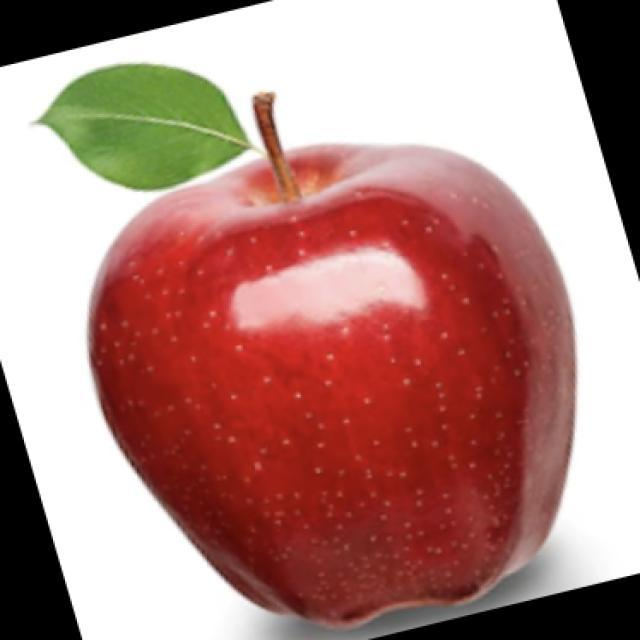Apple: (85, 90, 578, 631)
